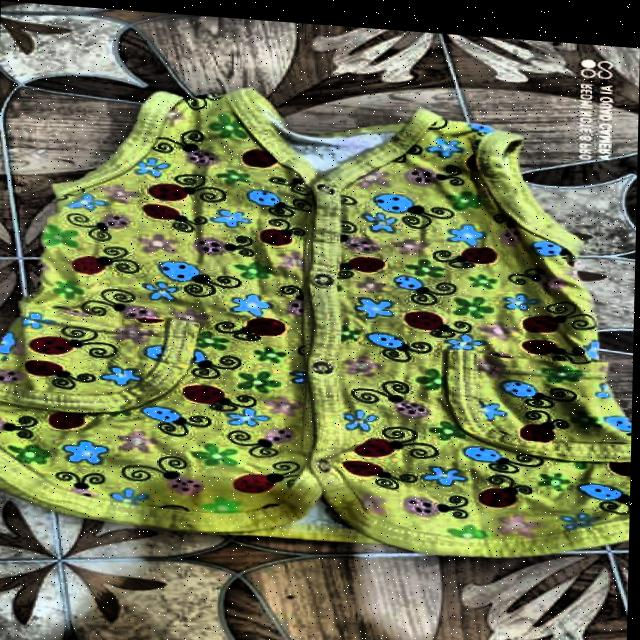clothes: (0, 71, 638, 568)
